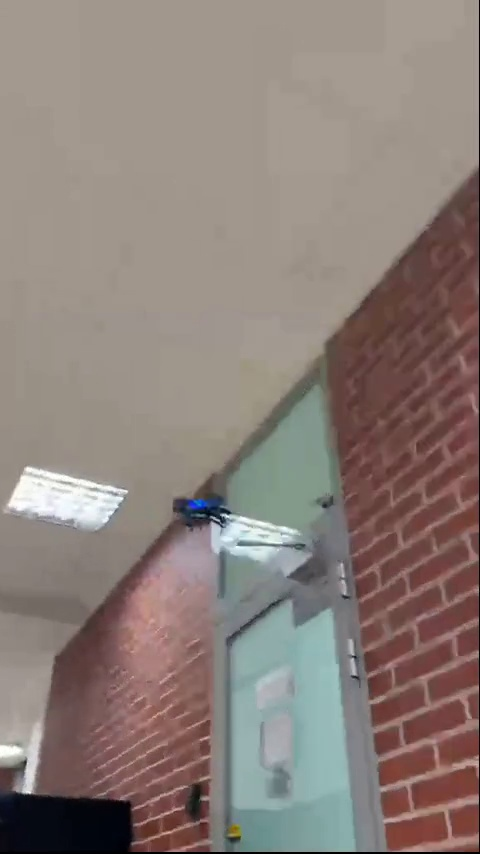drone: (176, 491, 228, 527)
